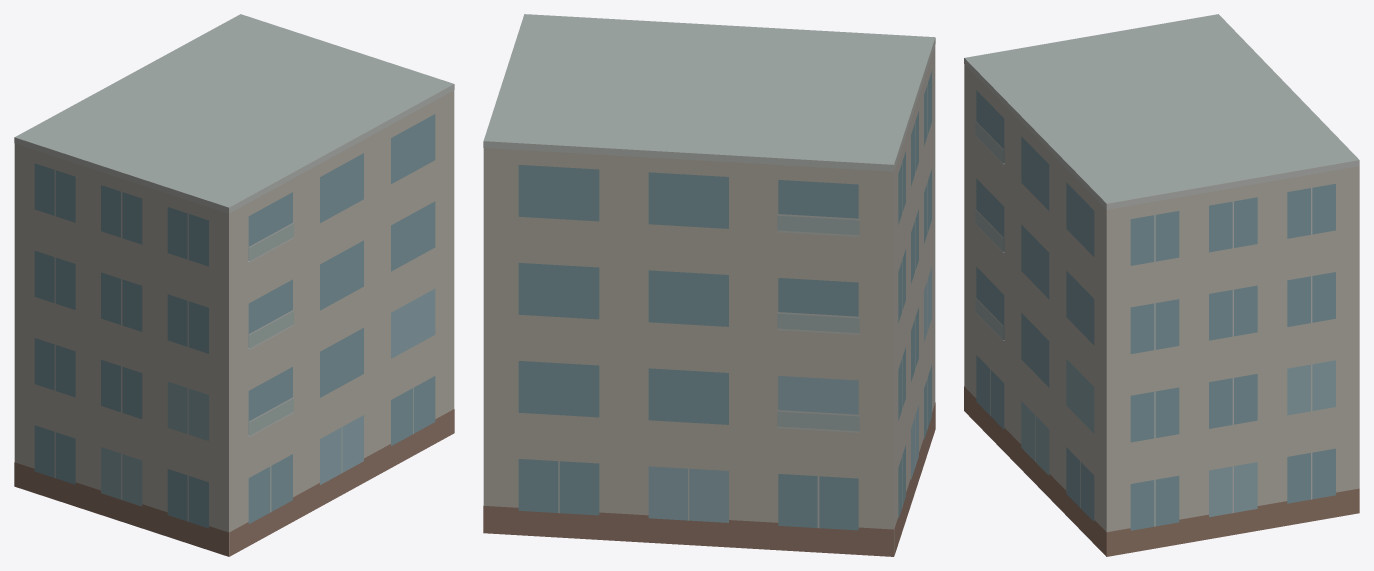
Rendered from survey-upis-32854547.glb.
3 renders of one model, left to right at view 1: azimuth 30°, elevation 25°; view 2: azimuth 150°, elevation 25°; view 3: azimuth 270°, elevation 25°, orthographic. The views are drawn at different scales.
Visible parts, largest first — view 1: survey-upis-32854547.tmp; view 2: survey-upis-32854547.tmp; view 3: survey-upis-32854547.tmp.
Part boxes in pixels (x1,y1,x2,y2): survey-upis-32854547.tmp: (14,14,454,556); survey-upis-32854547.tmp: (483,14,935,556); survey-upis-32854547.tmp: (964,14,1359,556).
Bounding box in the file's own units: 16.32 × 14.15 × 14.37.
